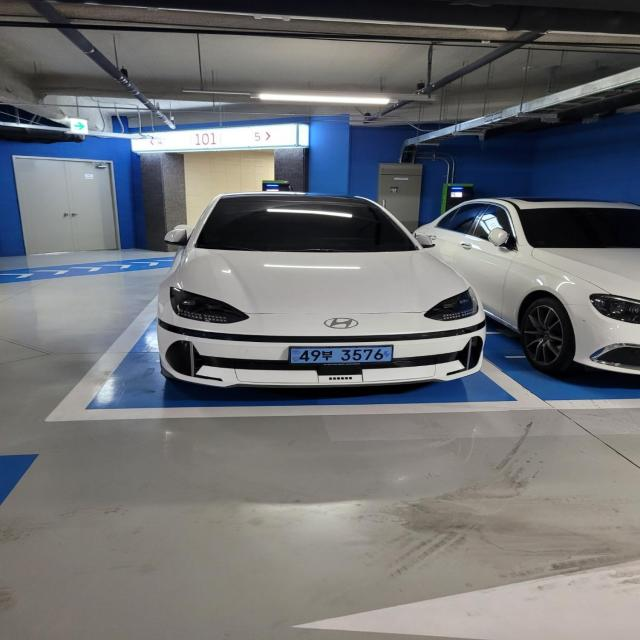EV_plate: (283, 342, 399, 372)
car: (156, 187, 486, 393)
